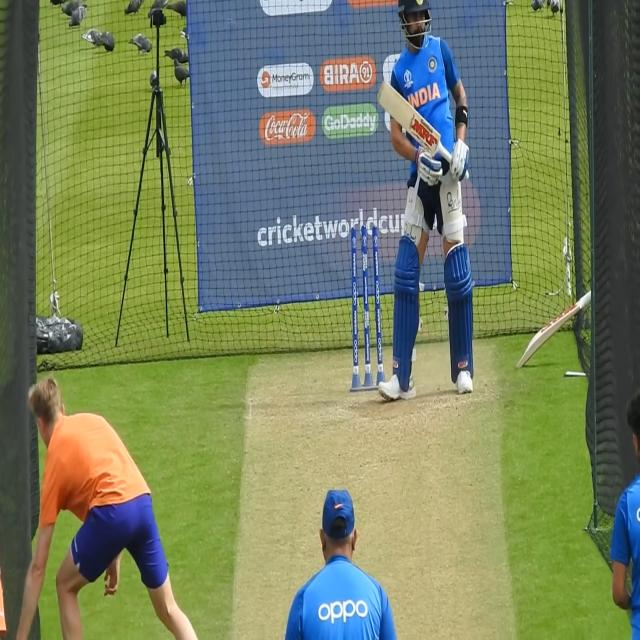stump: (350, 224, 384, 394)
